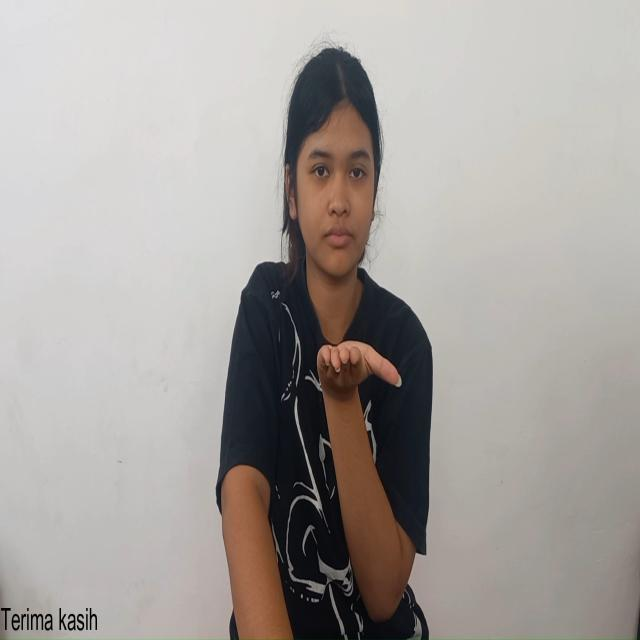Terima kasih -BISINDO-: (316, 335, 432, 625)
